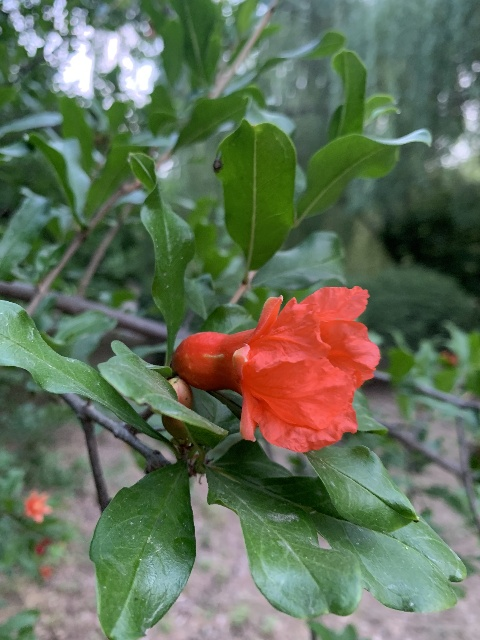bud: (164, 376, 193, 423)
flower: (173, 285, 381, 453), (22, 489, 52, 523)
